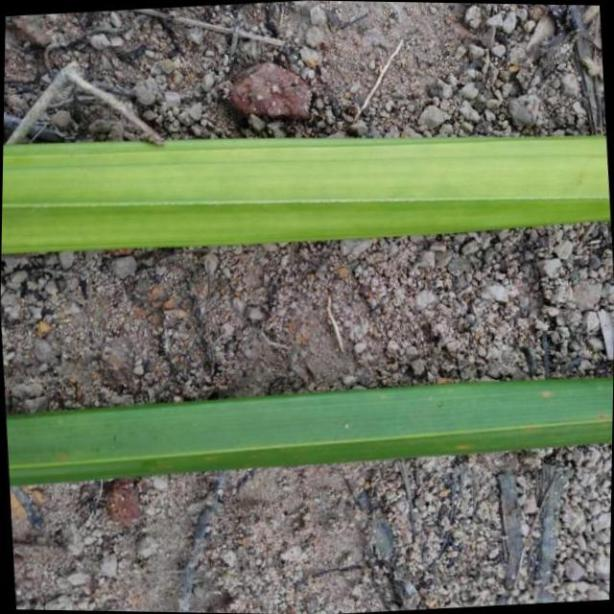nitrogen: (3, 134, 614, 257), (7, 374, 614, 487)
